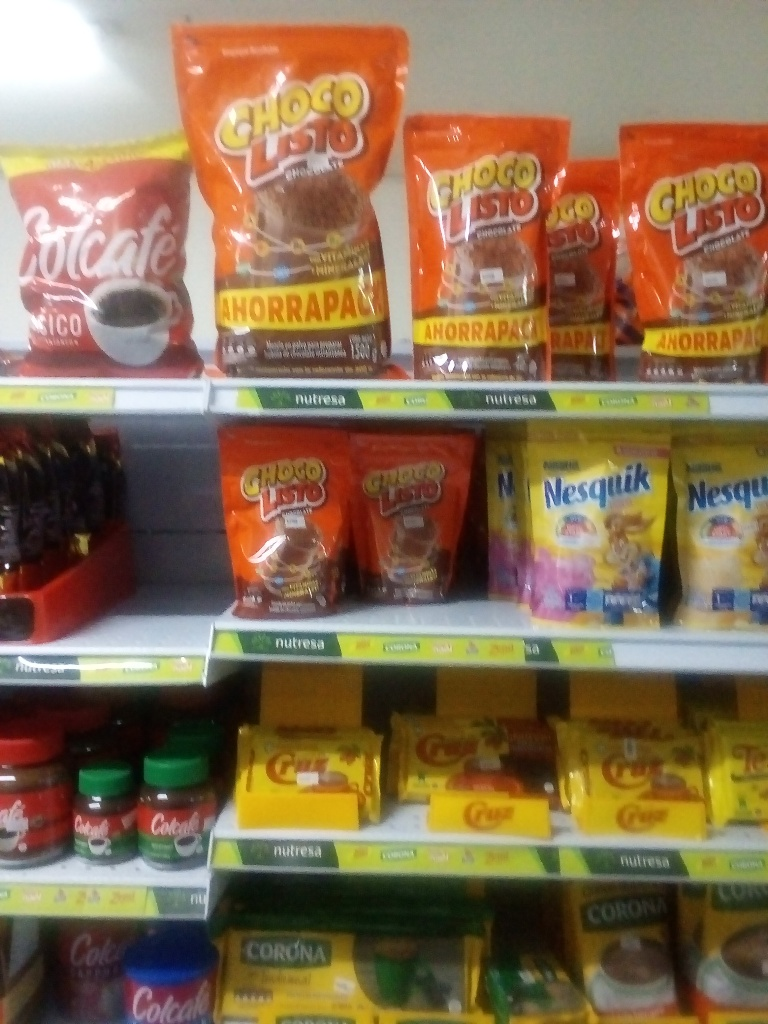COL0170103DYP1,500: (172, 24, 399, 376)
COL0170103DYP44000: (619, 124, 767, 383)
COL0170305DYP20000: (523, 414, 665, 631)
COL0170306DYP20000: (663, 419, 767, 630)
